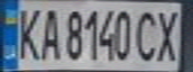0: (115, 6, 136, 61)
1: (81, 6, 100, 61)
4: (97, 6, 118, 61)
8: (60, 4, 84, 61)
A: (36, 4, 60, 61)
C: (133, 7, 160, 61)
K: (12, 3, 45, 62)
X: (151, 6, 184, 62)
